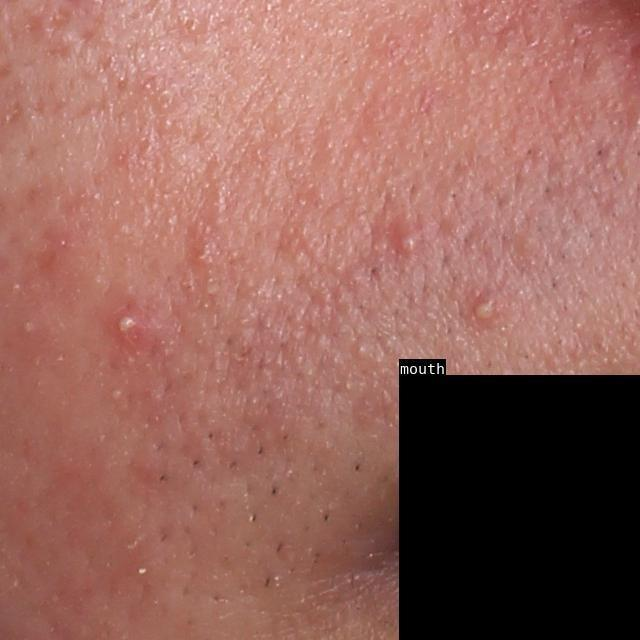comedo: (149, 85, 184, 113), (179, 11, 206, 35)
pustule: (110, 305, 154, 346), (466, 287, 504, 332), (386, 222, 426, 262)
